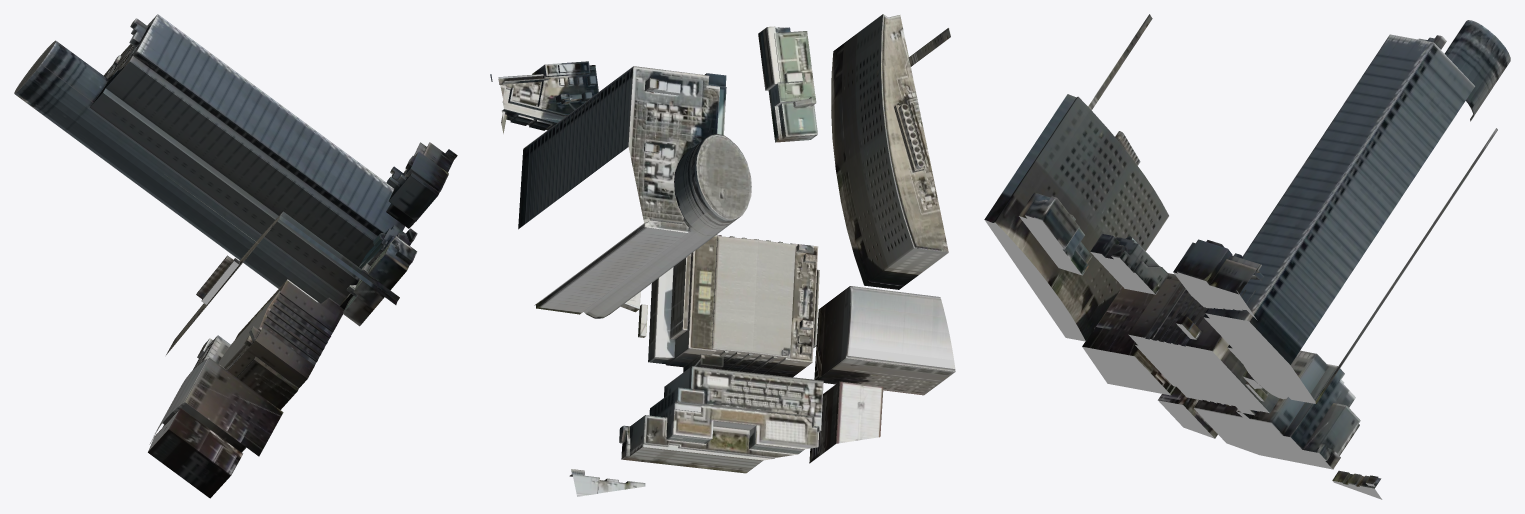
Rendered from 39541_bldg_Building.glb.
The picture shows the model from 3 angles, left to right: view 1: azimuth 30°, elevation 25°; view 2: azimuth 150°, elevation 25°; view 3: azimuth 270°, elevation 25°; orthographic projection. The views are drawn at different scales.
Bounding box in the file's own units: 159 × 170 × 194.
Materials: 2 (1 with a texture image).
